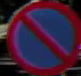No waiting: (4, 0, 78, 72)
